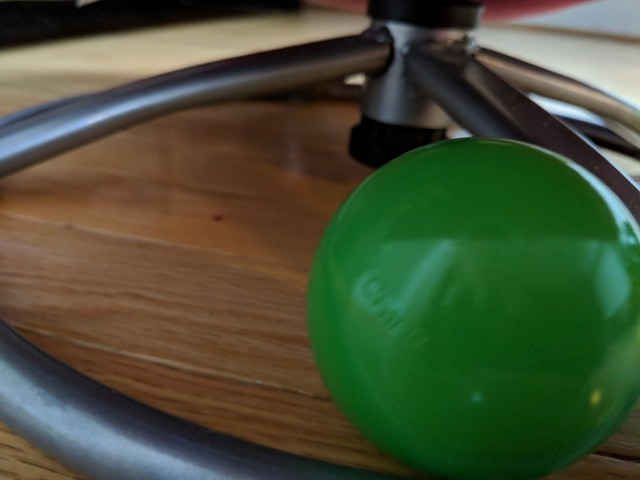Ball: (307, 140, 640, 476)
